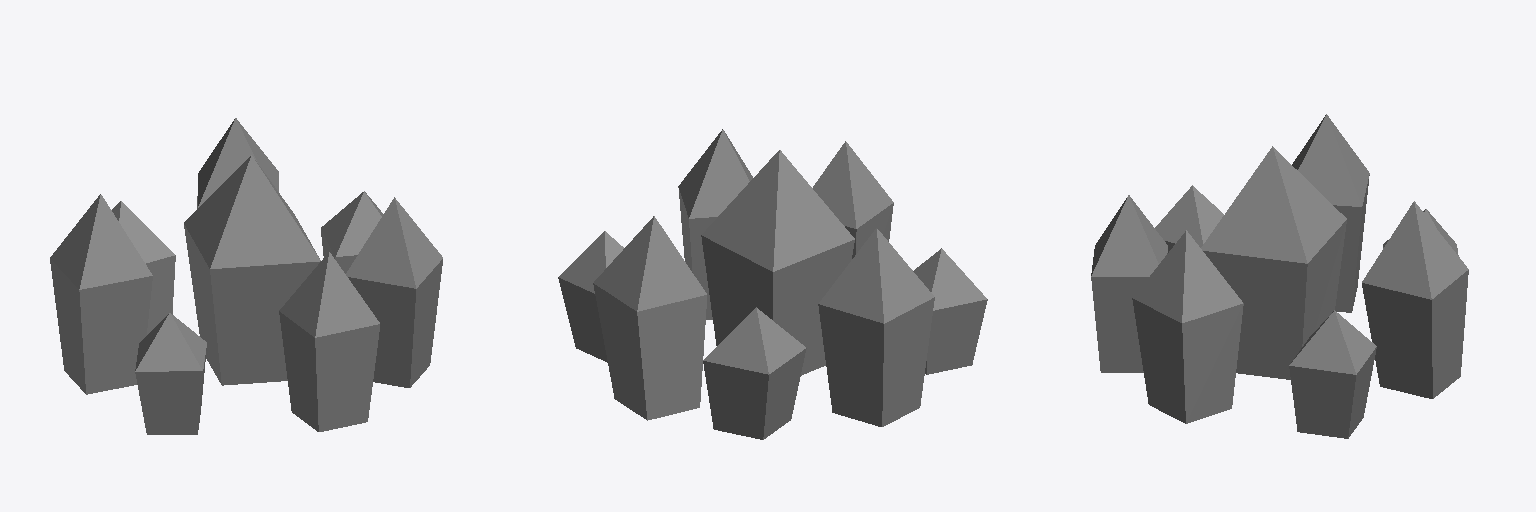
The model's file is crystal.obj.
3 renders of one model, left to right at view 1: azimuth 30°, elevation 25°; view 2: azimuth 150°, elevation 25°; view 3: azimuth 270°, elevation 25°, orthographic.
Parts seen in each view (by area): view 1: s026, s024, s019, s018, s015, s017, s016, s014; view 2: s026, s016, s024, s017, s015, s018, s019, s014; view 3: s026, s018, s016, s019, s014, s024, s015.
Boxes of the visible parts, x1=… form: s026: x1=184, y1=155, x2=320, y2=385; s024: x1=50, y1=194, x2=152, y2=394; s019: x1=279, y1=252, x2=379, y2=431; s018: x1=346, y1=197, x2=442, y2=387; s015: x1=135, y1=313, x2=206, y2=434; s017: x1=112, y1=201, x2=175, y2=334; s016: x1=196, y1=118, x2=278, y2=313; s014: x1=321, y1=191, x2=382, y2=273; s026: x1=701, y1=150, x2=854, y2=375; s016: x1=593, y1=216, x2=706, y2=420; s024: x1=818, y1=228, x2=934, y2=426; s017: x1=703, y1=307, x2=806, y2=439; s015: x1=913, y1=248, x2=987, y2=374; s018: x1=678, y1=129, x2=752, y2=319; s019: x1=813, y1=141, x2=893, y2=258; s014: x1=558, y1=231, x2=623, y2=362; s026: x1=1201, y1=146, x2=1346, y2=379; s018: x1=1132, y1=230, x2=1243, y2=423; s016: x1=1362, y1=201, x2=1468, y2=398; s019: x1=1091, y1=195, x2=1167, y2=372; s014: x1=1289, y1=310, x2=1376, y2=438; s024: x1=1292, y1=114, x2=1369, y2=312; s015: x1=1155, y1=185, x2=1223, y2=252.
Size of the model in its own units: 0.8314 by 0.4899 by 0.792.